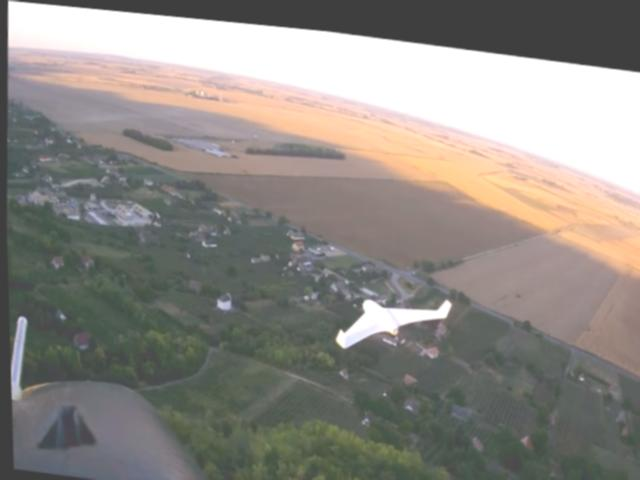plane: (333, 279, 451, 355)
